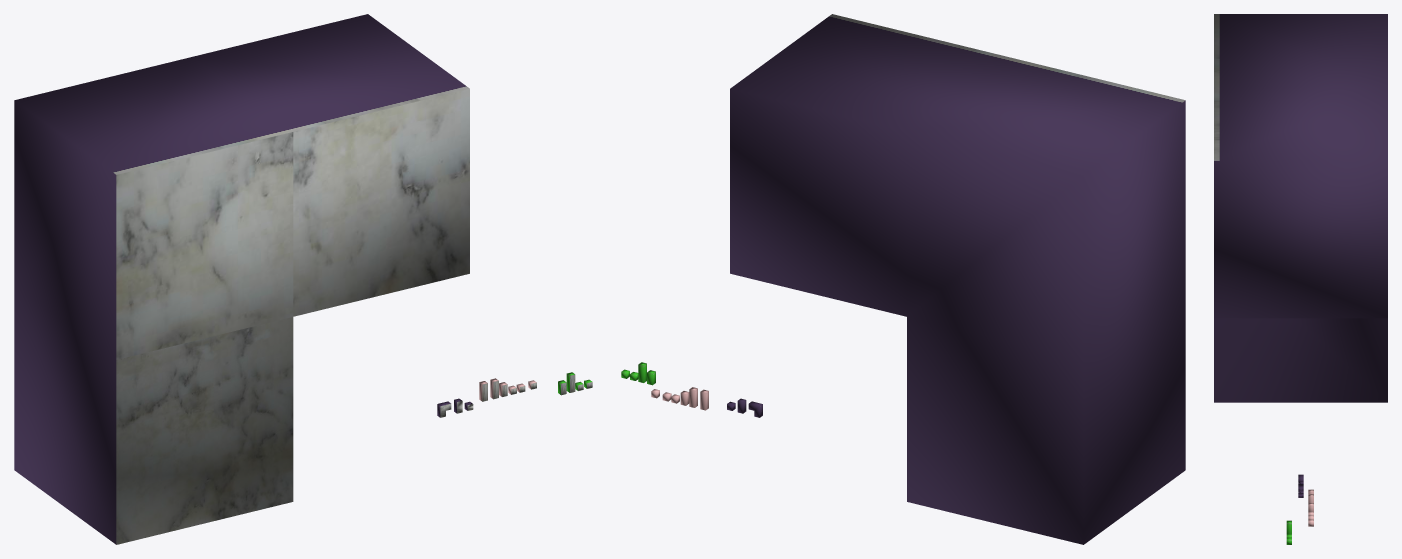
File: cubos2.fbx
3 renders of one model, left to right at view 1: azimuth 30°, elevation 25°; view 2: azimuth 150°, elevation 25°; view 3: azimuth 270°, elevation 25°, orthographic. The views are drawn at different scales.
Visible parts, largest first — view 1: morado4; view 2: morado4; view 3: morado4.
Boxes of the visible parts, x1,y1,x2,y2 form: morado4: [14, 14, 469, 544]; morado4: [730, 14, 1185, 544]; morado4: [1214, 14, 1387, 402].
Bounding box in the file's own units: 93.9 × 64.07 × 32.
